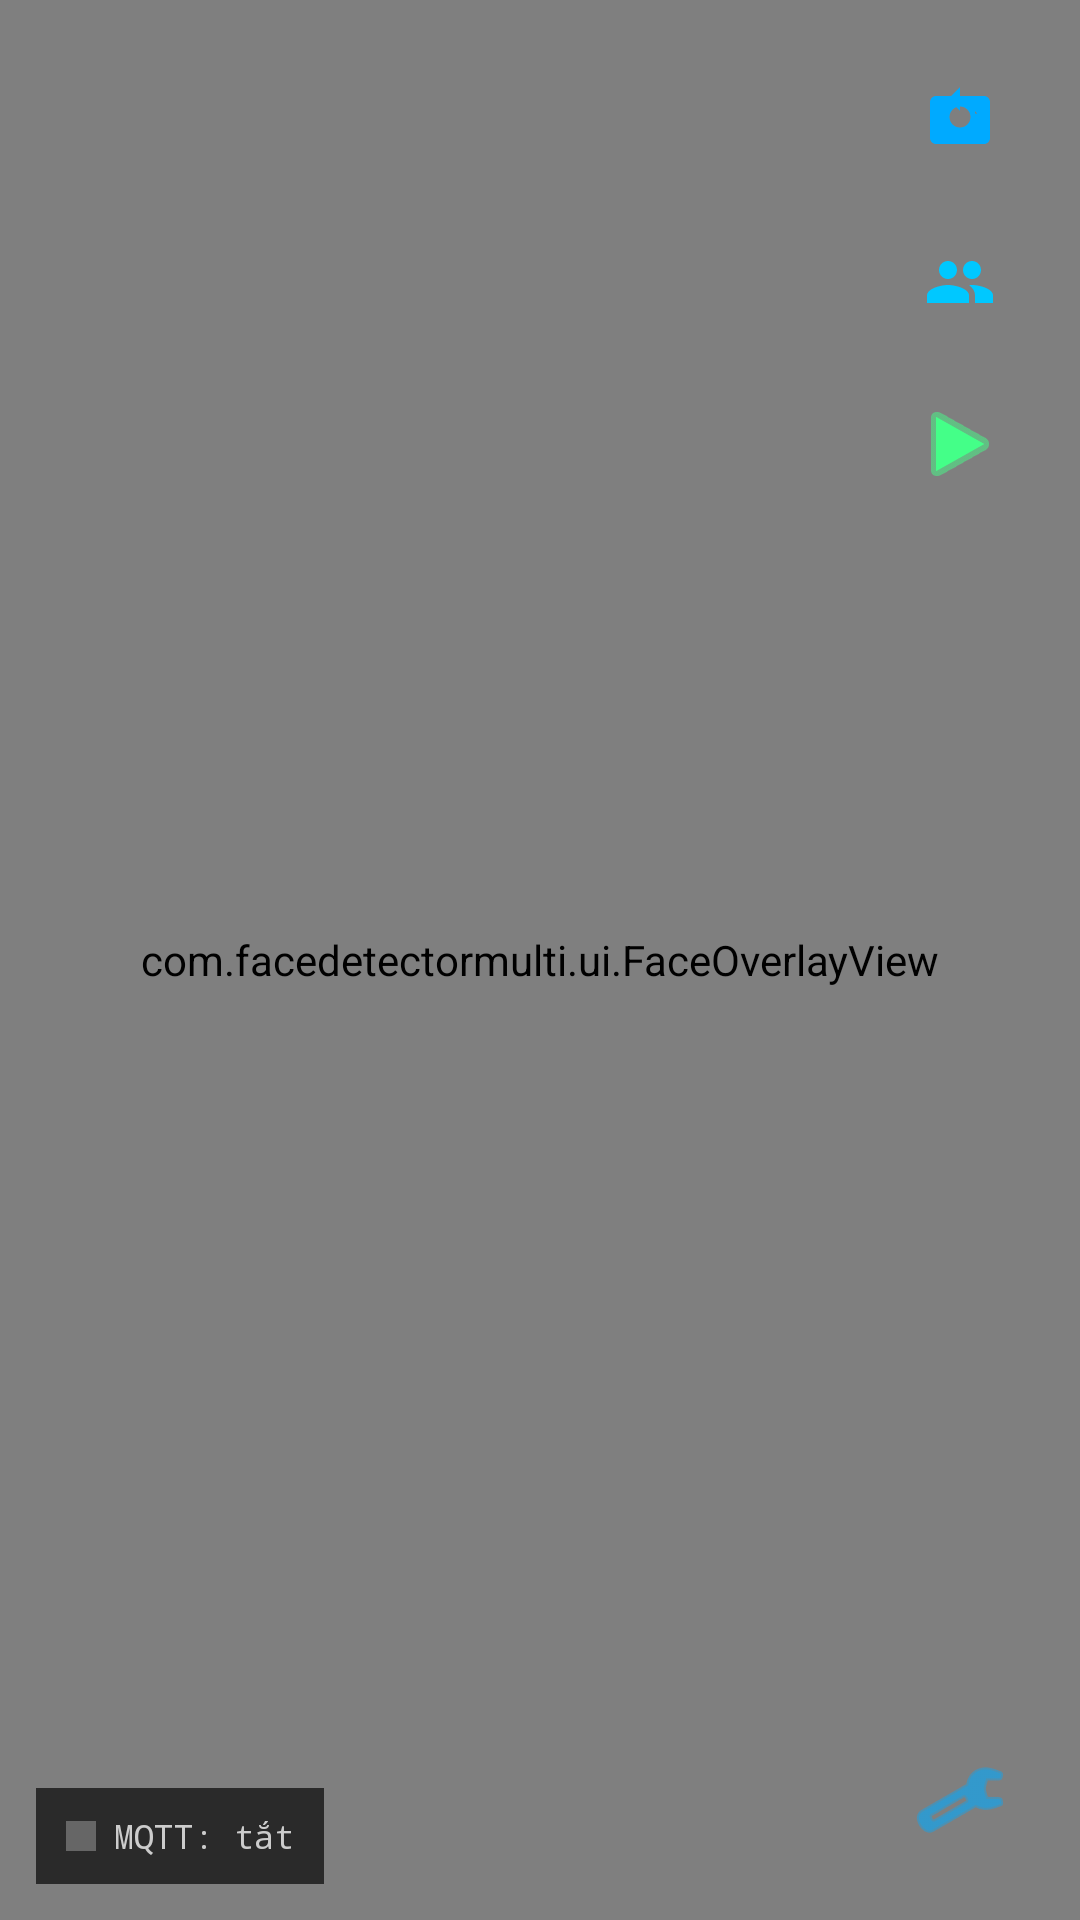

Icon bounding boxes for this 1080px x 1920px phone screenshot, format (x1, y1, x2, y2):
Bật/tắt chạy nền: (931, 412, 989, 476)
Chuyển camera: (930, 87, 990, 144)
Cài đặt: (917, 1767, 1003, 1833)
